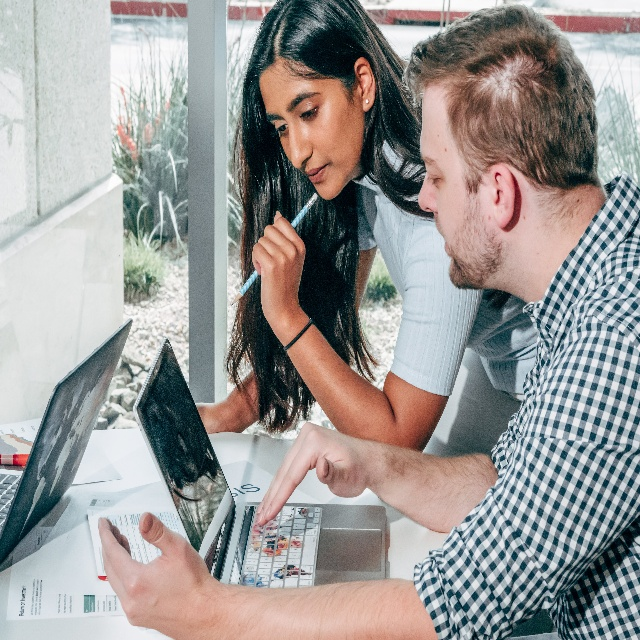Sin_guantes: (98, 511, 213, 640), (256, 420, 369, 527), (252, 211, 306, 335)
